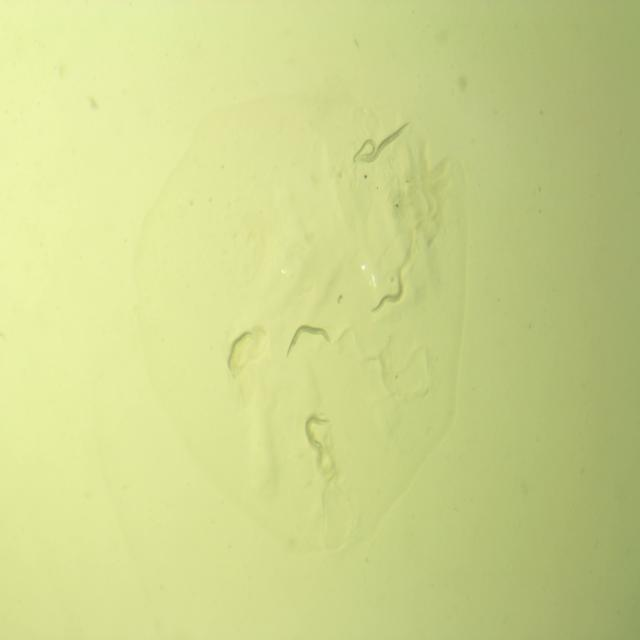worm: (358, 116, 413, 165), (283, 320, 335, 365), (370, 266, 407, 324), (301, 405, 333, 466), (221, 328, 258, 377), (350, 132, 379, 169)
